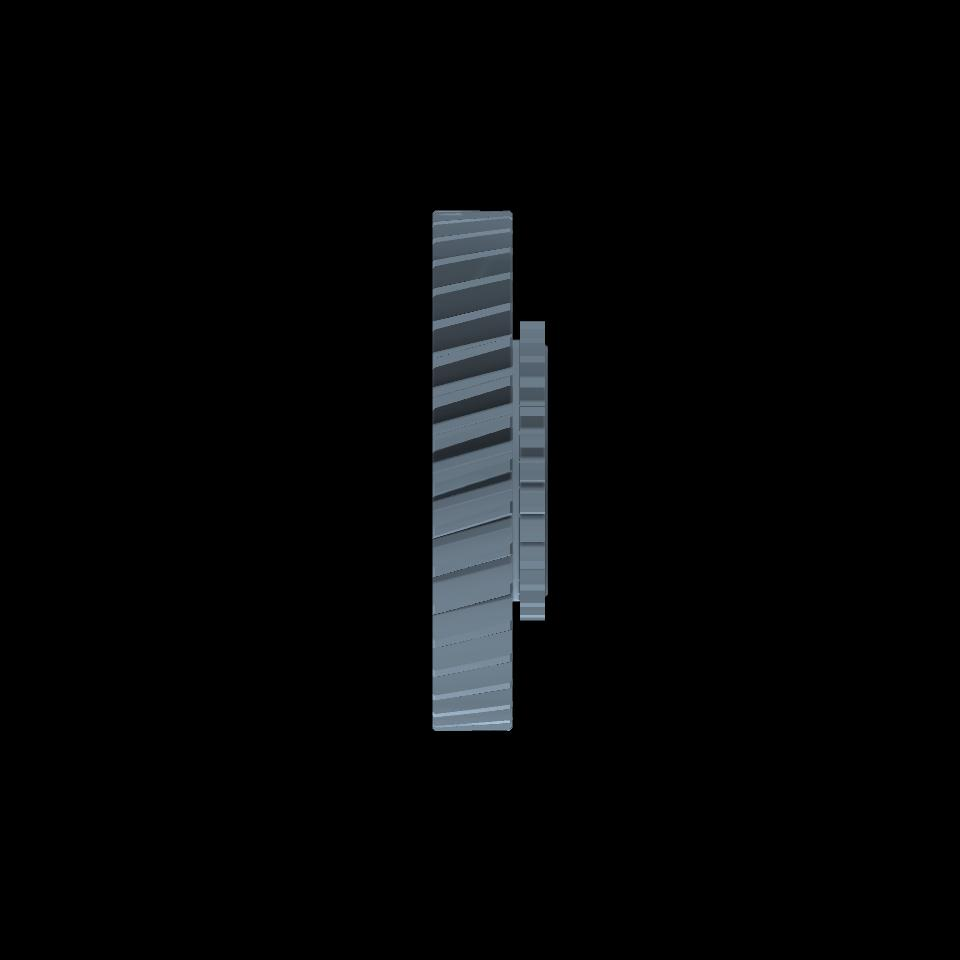Helical: (431, 210, 511, 729)
Straight: (520, 319, 545, 617)
